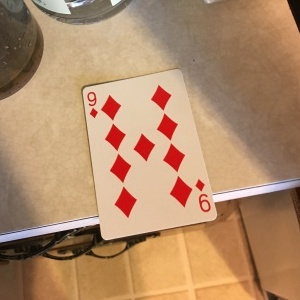card: (82, 67, 217, 240)
